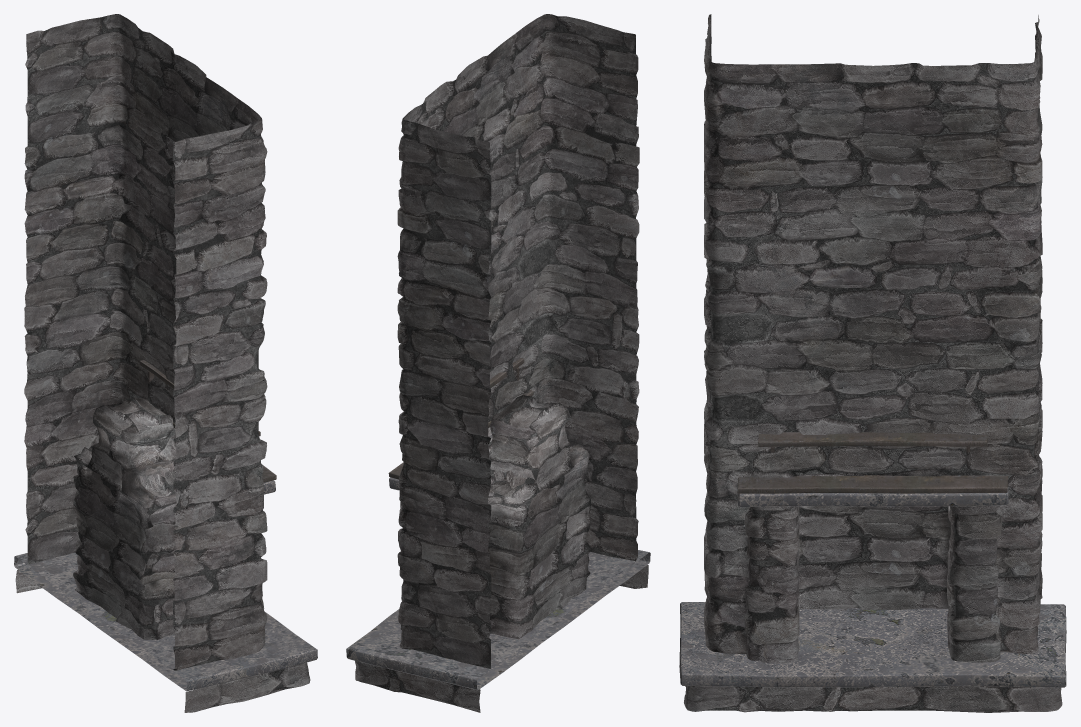
File: SM_Fireplace.FBX
3 views of the same model, side by side, from view 1: azimuth 30°, elevation 25°; view 2: azimuth 150°, elevation 25°; view 3: azimuth 270°, elevation 25° (orthographic). The views are drawn at different scales.
Visible parts, largest first — view 1: SM_Fireplace_LOD0; view 2: SM_Fireplace_LOD0; view 3: SM_Fireplace_LOD0.
Boxes of the visible parts, bbox=[...] form: SM_Fireplace_LOD0: bbox=[14, 14, 317, 712]; SM_Fireplace_LOD0: bbox=[346, 14, 650, 712]; SM_Fireplace_LOD0: bbox=[679, 14, 1066, 712].
Size of what is drawn, in the model's own units: 82.9 by 338 by 188.
